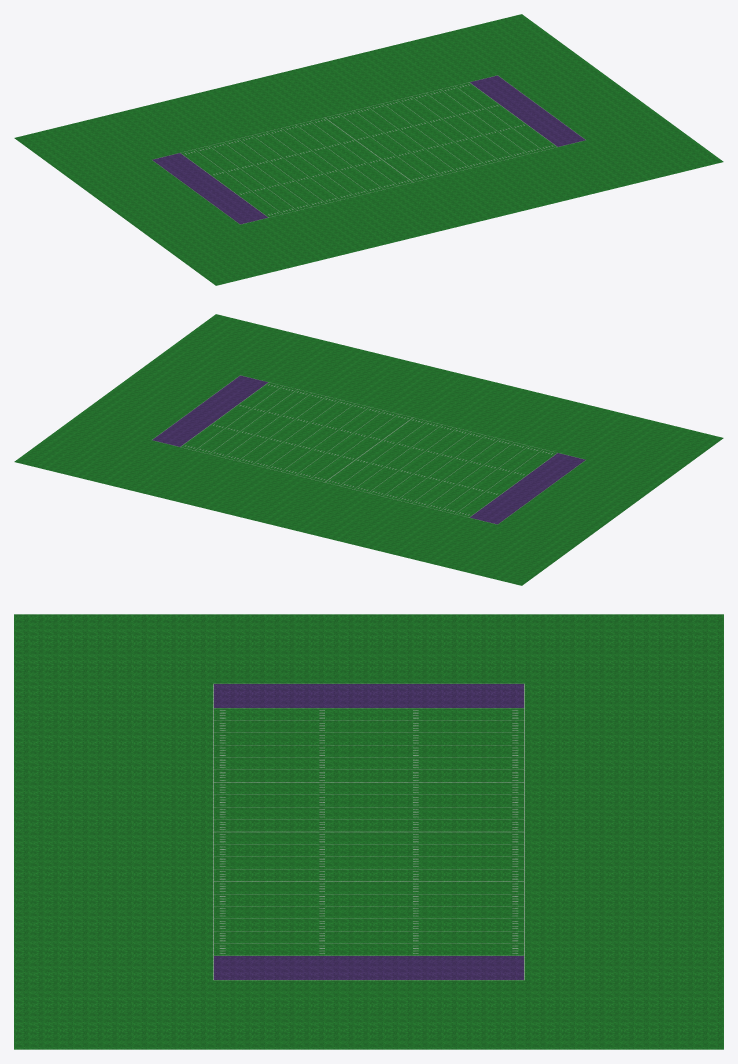
File: field.fbx
3 views of the same model, one above another, from view 1: azimuth 30°, elevation 25°; view 2: azimuth 150°, elevation 25°; view 3: azimuth 270°, elevation 25° (orthographic). The views are drawn at different scales.
Visible parts, largest first — view 1: Plane_001; view 2: Plane_001; view 3: Plane_001.
Boxes of the visible parts, x1,y1,x2,y2 form: Plane_001: (14,14,723,285); Plane_001: (14,314,723,585); Plane_001: (14,614,723,1049).
Bounding box in the file's own units: 176 × 0.01 × 121.
